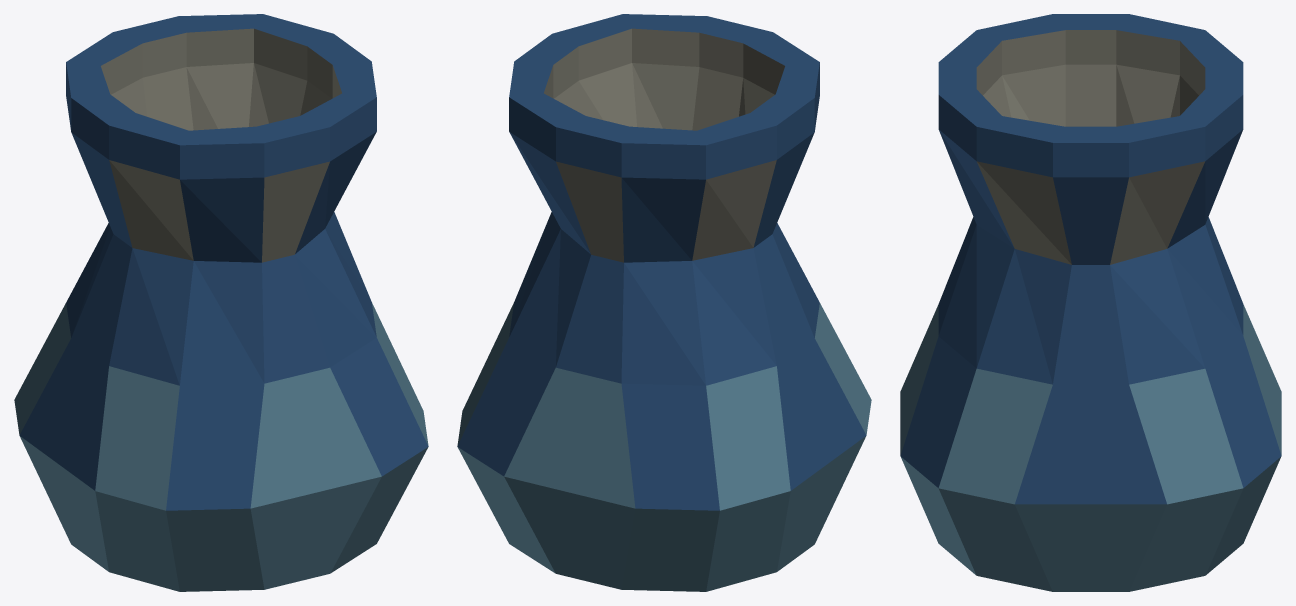
The model's file is obj_large_urn_0.obj.
The picture shows the model from 3 angles, left to right: view 1: azimuth 30°, elevation 25°; view 2: azimuth 150°, elevation 25°; view 3: azimuth 270°, elevation 25°; orthographic projection.
Size of the model in its own units: 1.88 by 2.44 by 1.88.
